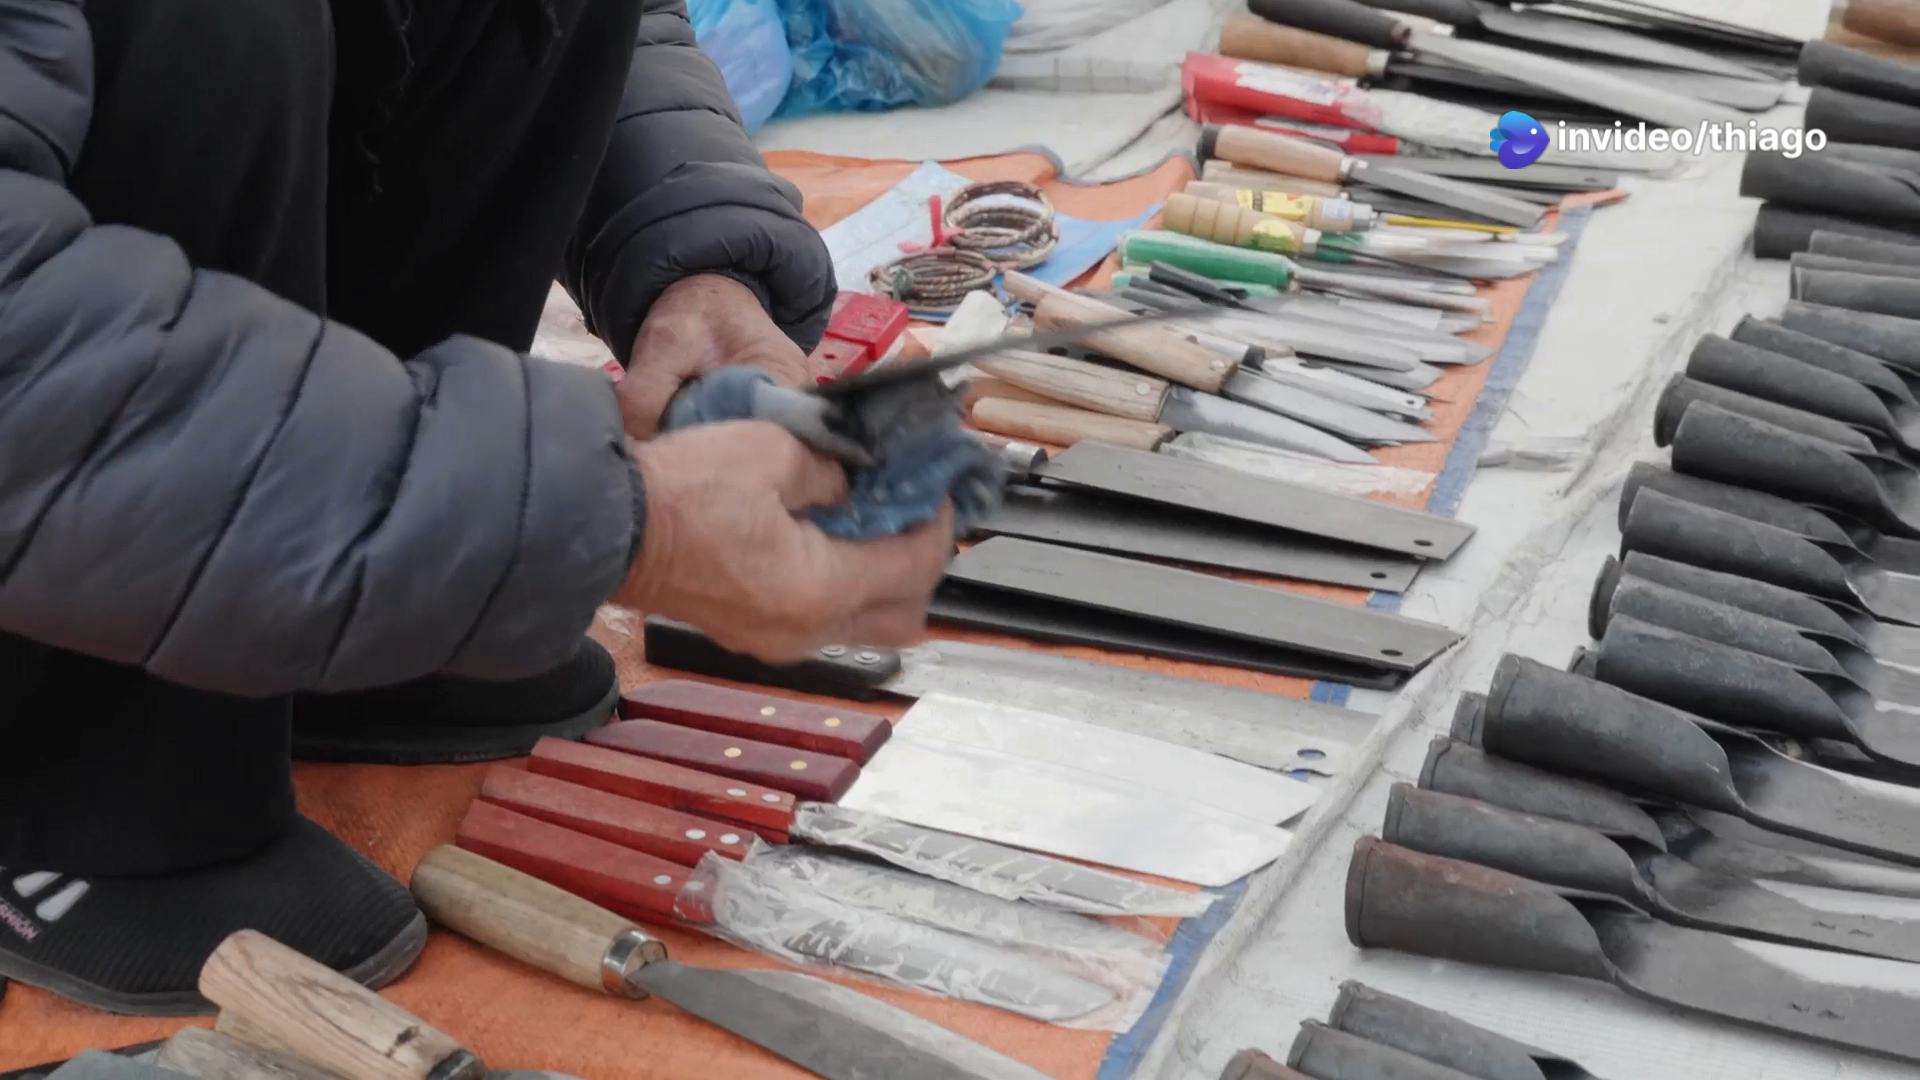cortante: (940, 517, 1469, 674), (870, 621, 1381, 783), (845, 737, 1304, 889), (1040, 433, 1480, 566), (822, 287, 1286, 411), (651, 944, 1052, 1080), (968, 476, 1427, 593), (1399, 26, 1776, 140), (1729, 931, 1920, 1080), (1745, 868, 1920, 978), (1799, 758, 1920, 845), (1876, 699, 1920, 775)
